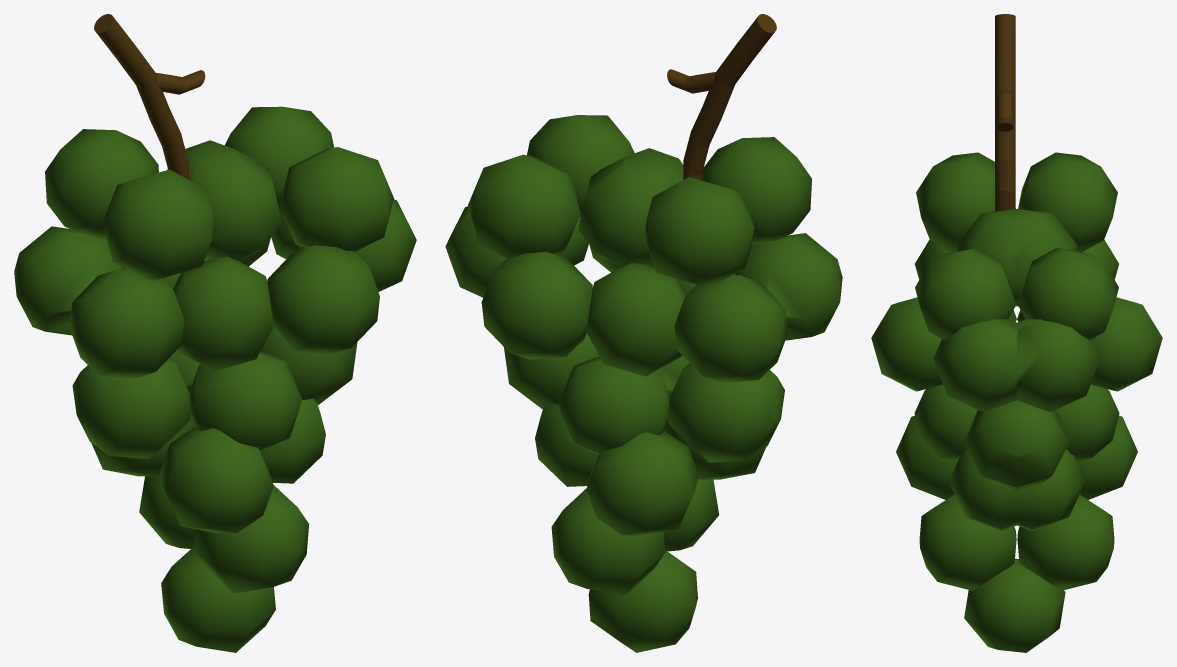
The model's file is grapes.fbx.
3 renders of one model, left to right at view 1: azimuth 30°, elevation 25°; view 2: azimuth 150°, elevation 25°; view 3: azimuth 270°, elevation 25°, orthographic. The views are drawn at different scales.
Visible parts, largest first — view 1: Sphere011, Cylinder002; view 2: Sphere011, Cylinder002; view 3: Sphere011, Cylinder002.
Part boxes in pixels (x1,y1,x2,y2): Sphere011: (14, 106, 416, 652); Cylinder002: (94, 14, 205, 179); Sphere011: (445, 115, 842, 652); Cylinder002: (667, 14, 776, 180); Sphere011: (871, 152, 1162, 652); Cylinder002: (995, 14, 1015, 211).
Bounding box in the file's own units: 0.5356 × 0.9932 × 0.4456.
